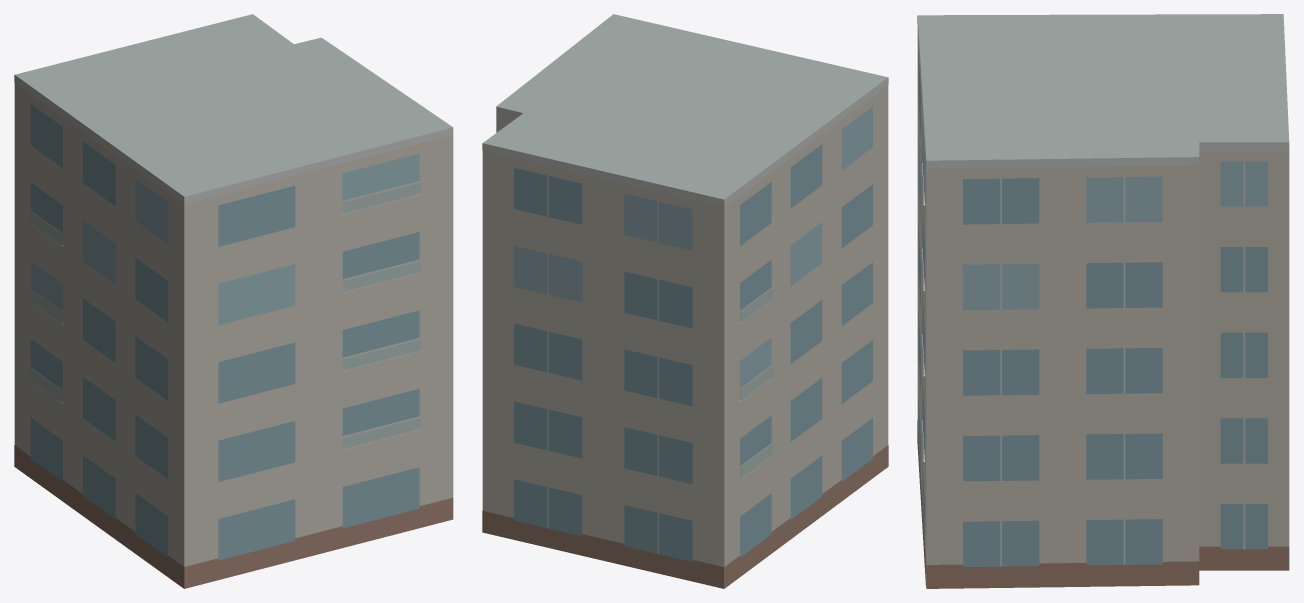
Rendered from survey-upis-32555822.glb.
3 renders of one model, left to right at view 1: azimuth 30°, elevation 25°; view 2: azimuth 150°, elevation 25°; view 3: azimuth 270°, elevation 25°, orthographic. The views are drawn at different scales.
Parts seen in each view (by area): view 1: survey-upis-32555822.tmp; view 2: survey-upis-32555822.tmp; view 3: survey-upis-32555822.tmp.
Part boxes in pixels (x1=…): survey-upis-32555822.tmp: x1=14, y1=14, x2=453, y2=588; survey-upis-32555822.tmp: x1=482, y1=14, x2=888, y2=588; survey-upis-32555822.tmp: x1=917, y1=14, x2=1289, y2=588.
Size of the model in its own units: 9.25 by 12.55 by 9.88.
